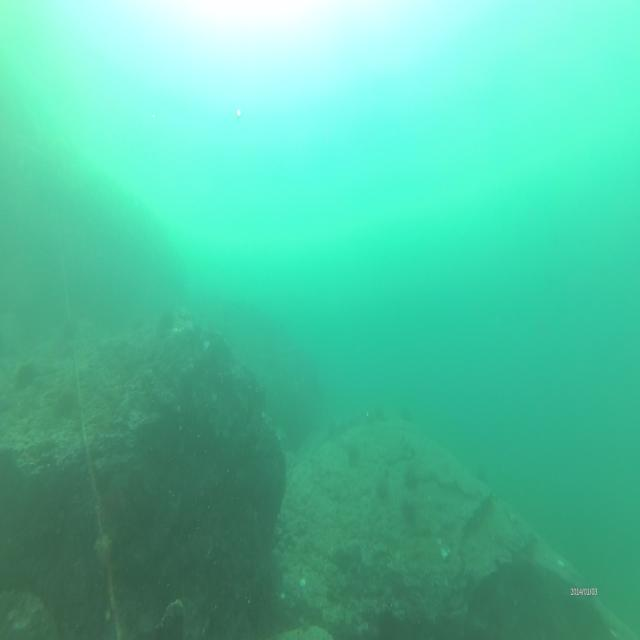echinus: (346, 438, 362, 468), (400, 499, 418, 522), (402, 463, 418, 487), (378, 468, 391, 494)
